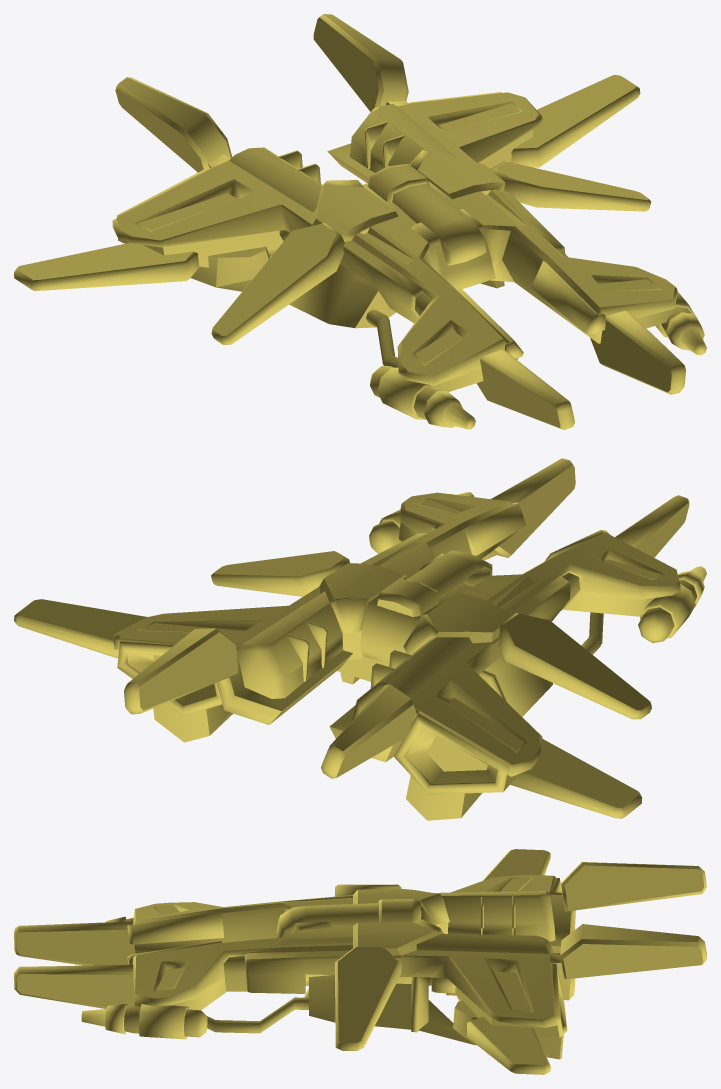
Rendered from SG_velez_optimized.FBX.
3 views of the same model, one above another, from view 1: azimuth 30°, elevation 25°; view 2: azimuth 150°, elevation 25°; view 3: azimuth 270°, elevation 25° (orthographic). The views are drawn at different scales.
Parts seen in each view (by area): view 1: SG_velez_optimized; view 2: SG_velez_optimized; view 3: SG_velez_optimized.
Boxes of the visible parts, <box> form: SG_velez_optimized: <box>14,14,706,429</box>; SG_velez_optimized: <box>14,458,706,820</box>; SG_velez_optimized: <box>14,849,706,1074</box>.
Size of the model in its own units: 19.33 by 4.62 by 21.9.
